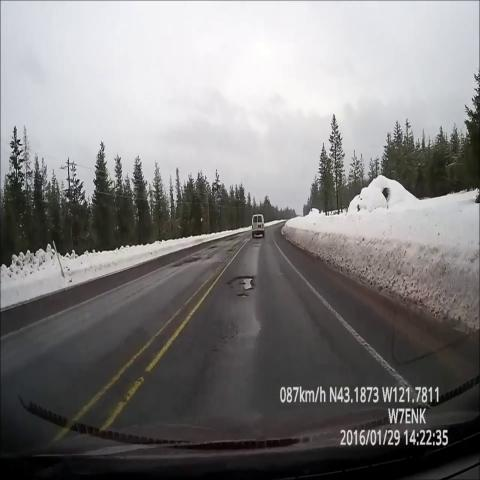pothole: (227, 264, 257, 306), (250, 235, 264, 254)
